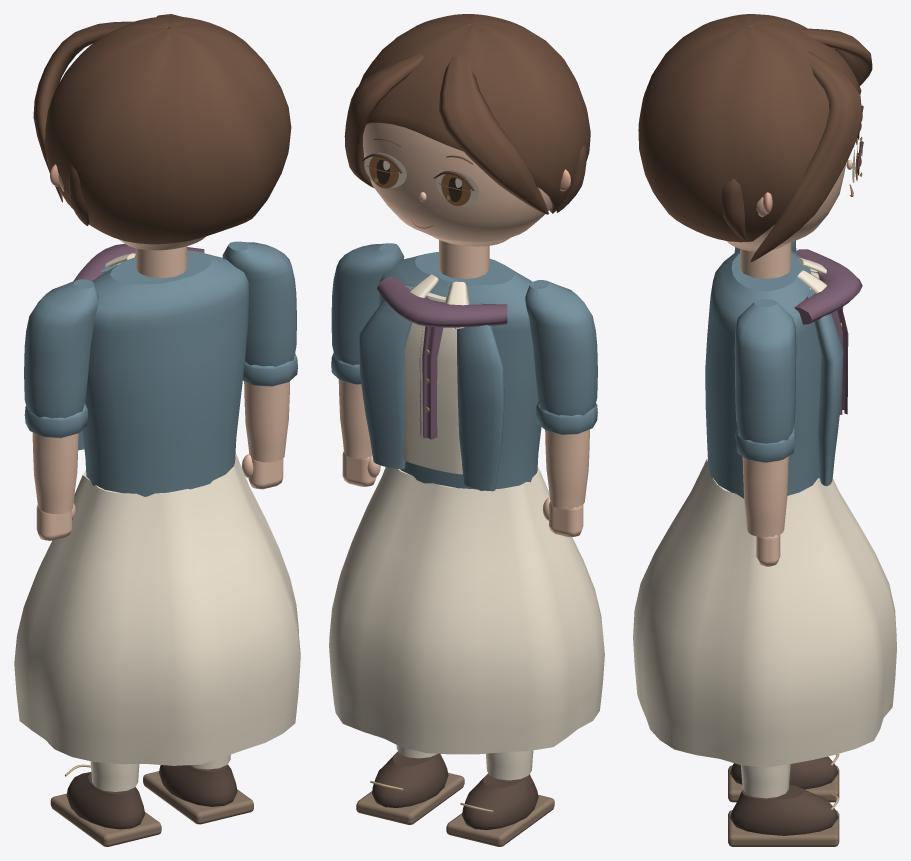
Rendered from visitor-b-native-v3.glb.
3 renders of one model, left to right at view 1: azimuth 30°, elevation 25°; view 2: azimuth 150°, elevation 25°; view 3: azimuth 270°, elevation 25°, orthographic. The views are drawn at different scales.
Visible parts, largest first — view 1: body.surface.1, head.surface.6, body.surface.0, arm-left.surface.27, arm-right.surface.35, forearm-left.surface.28, forearm-right.surface.36, foot-left.surface.32, foot-right.surface.40, foot-left.surface.33, foot-right.surface.41, body.surface.2 (+5 smaller); view 2: body.surface.1, head.surface.6, body.surface.0, head.surface.5, arm-left.surface.27, arm-right.surface.35, body.surface.3, foot-right.surface.40, foot-left.surface.32, forearm-left.surface.28, forearm-right.surface.36, foot-right.surface.41 (+6 smaller); view 3: body.surface.1, head.surface.6, body.surface.0, arm-right.surface.35, foot-right.surface.40, body.surface.3, forearm-right.surface.36, foot-right.surface.41, shin-right.surface.39, head.surface.5, foot-left.surface.32, body.surface.2 (+3 smaller).
Boxes of the visible parts, x1=… form: body.surface.1: x1=14, y1=253, x2=300, y2=765; head.surface.6: x1=33, y1=14, x2=291, y2=244; body.surface.0: x1=78, y1=250, x2=248, y2=496; arm-left.surface.27: x1=24, y1=279, x2=98, y2=438; arm-right.surface.35: x1=222, y1=241, x2=297, y2=386; forearm-left.surface.28: x1=32, y1=432, x2=78, y2=513; forearm-right.surface.36: x1=244, y1=381, x2=289, y2=462; foot-left.surface.32: x1=66, y1=772, x2=144, y2=829; foot-right.surface.40: x1=159, y1=765, x2=237, y2=806; foot-left.surface.33: x1=50, y1=793, x2=161, y2=846; foot-right.surface.41: x1=143, y1=771, x2=253, y2=824; body.surface.2: x1=135, y1=246, x2=187, y2=278; body.surface.1: x1=329, y1=274, x2=604, y2=754; head.surface.6: x1=344, y1=14, x2=590, y2=214; body.surface.0: x1=359, y1=252, x2=541, y2=491; head.surface.5: x1=363, y1=123, x2=563, y2=246; arm-left.surface.27: x1=525, y1=280, x2=597, y2=434; arm-right.surface.35: x1=331, y1=243, x2=404, y2=384; body.surface.3: x1=377, y1=277, x2=507, y2=439; foot-right.surface.40: x1=372, y1=751, x2=448, y2=807; foot-left.surface.32: x1=462, y1=773, x2=538, y2=829; forearm-left.surface.28: x1=545, y1=429, x2=589, y2=509; forearm-right.surface.36: x1=338, y1=379, x2=372, y2=458; foot-right.surface.41: x1=356, y1=772, x2=464, y2=824; body.surface.1: x1=633, y1=257, x2=896, y2=767; head.surface.6: x1=638, y1=14, x2=872, y2=261; body.surface.0: x1=705, y1=251, x2=843, y2=498; arm-right.surface.35: x1=734, y1=299, x2=796, y2=462; foot-right.surface.40: x1=730, y1=785, x2=838, y2=835; body.surface.3: x1=794, y1=249, x2=862, y2=414; forearm-right.surface.36: x1=742, y1=456, x2=788, y2=537; foot-right.surface.41: x1=728, y1=810, x2=839, y2=846; shin-right.surface.39: x1=741, y1=764, x2=790, y2=798; head.surface.5: x1=727, y1=160, x2=852, y2=251; foot-left.surface.32: x1=730, y1=756, x2=838, y2=789; body.surface.2: x1=740, y1=242, x2=791, y2=278.
Bounding box in the file's own units: 0.5753 × 1.64 × 0.5003.
Materials: 18 (1 with a texture image).
